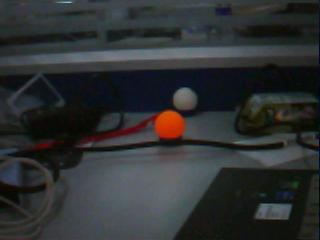oball: (155, 111, 184, 139)
